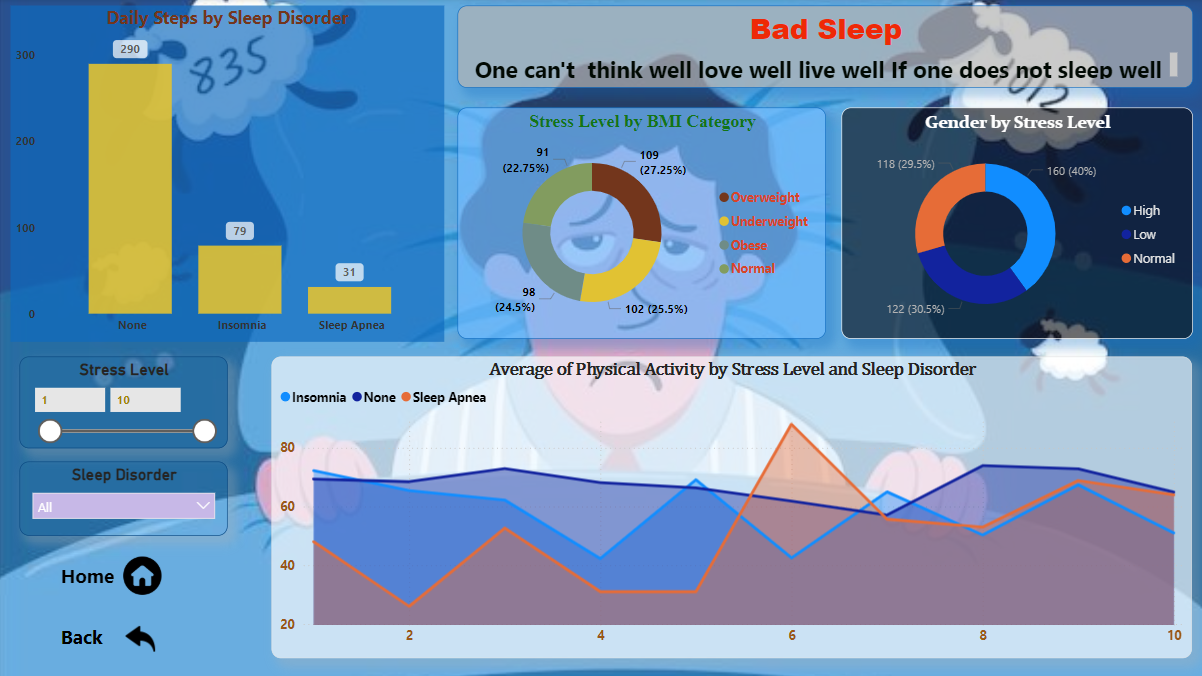

The page's visual inventory and layout, read from the dashboard file:
{"tool":"powerbi","page":{"name":"Page 3","canvas":[1280,720],"ordinal":2},"visuals":[{"type":"textbox","title":"Bad Sleep","box":[488.1,8.1,779.7,87.1],"z":0},{"type":"textbox","box":[500.3,52.7,755.4,38.5],"z":1000},{"type":"donutChart","title":"Stress Level by BMI Category","fields":{"Category":["sleep datasets.BMI Category"],"Y":["CountNonNull(sleep datasets.SL Ratings)"]},"box":[488.1,115.4,390.9,245.1],"z":2000},{"type":"lineChart","title":"Average of Physical Activity by Stress Level  and Sleep Disorder","fields":{"Y":["Avg(sleep datasets.Physical Activity Level (minutes/day))"],"Category":["sleep datasets.Stress Level (scale: 1-10)"],"Series":["sleep datasets.Sleep Disorder"]},"box":[291.6,380.8,976.2,320],"z":3000},{"type":"lineStackedColumnComboChart","title":" Daily Steps by Sleep Disorder","fields":{"Category":["sleep datasets.Sleep Disorder"],"Y":["CountNonNull(sleep datasets.Daily Steps)"]},"box":[14.2,8.1,459.7,356.5],"z":4000},{"type":"donutChart","title":" Gender by Stress Level","fields":{"Category":["sleep datasets.SL Ratings"],"Y":["CountNonNull(sleep datasets.Gender)"]},"box":[895.2,115.4,372.7,245.1],"z":5000},{"type":"slicer","title":"Stress Level ","fields":{"Values":["sleep datasets.Stress Level (scale: 1-10)"]},"box":[24.3,380.8,220.8,97.2],"z":6000},{"type":"slicer","title":"Sleep Disorder","fields":{"Values":["sleep datasets.Sleep Disorder"]},"box":[24.3,492.2,220.8,79],"z":7000},{"type":"actionButton","box":[63.6,586.9,133.6,50.9],"z":7001},{"type":"image","box":[122.5,586.9,63.6,50.9],"z":7002},{"type":"actionButton","box":[63.6,660.1,111.3,39.8],"z":7003},{"type":"image","box":[117.7,658.5,68.4,41.4],"z":7004}]}

Visuals, with their boxes in screenshot pixels (x1, y1, x2, y2), scaled from the page's 1280x720 canvas onto the 1202x676 screenshot:
"Bad Sleep" textbox: {"x1": 458, "y1": 8, "x2": 1191, "y2": 89}
textbox: {"x1": 470, "y1": 49, "x2": 1179, "y2": 86}
"Stress Level by BMI Category" donutChart: {"x1": 458, "y1": 108, "x2": 825, "y2": 338}
"Average of Physical Activity by Stress Level  and Sleep Disorder" lineChart: {"x1": 274, "y1": 358, "x2": 1191, "y2": 658}
" Daily Steps by Sleep Disorder" lineStackedColumnComboChart: {"x1": 13, "y1": 8, "x2": 445, "y2": 342}
" Gender by Stress Level" donutChart: {"x1": 841, "y1": 108, "x2": 1191, "y2": 338}
"Stress Level " slicer: {"x1": 23, "y1": 358, "x2": 230, "y2": 449}
"Sleep Disorder" slicer: {"x1": 23, "y1": 462, "x2": 230, "y2": 536}
actionButton: {"x1": 60, "y1": 551, "x2": 185, "y2": 599}
image: {"x1": 115, "y1": 551, "x2": 175, "y2": 599}
actionButton: {"x1": 60, "y1": 620, "x2": 164, "y2": 657}
image: {"x1": 111, "y1": 618, "x2": 175, "y2": 657}
